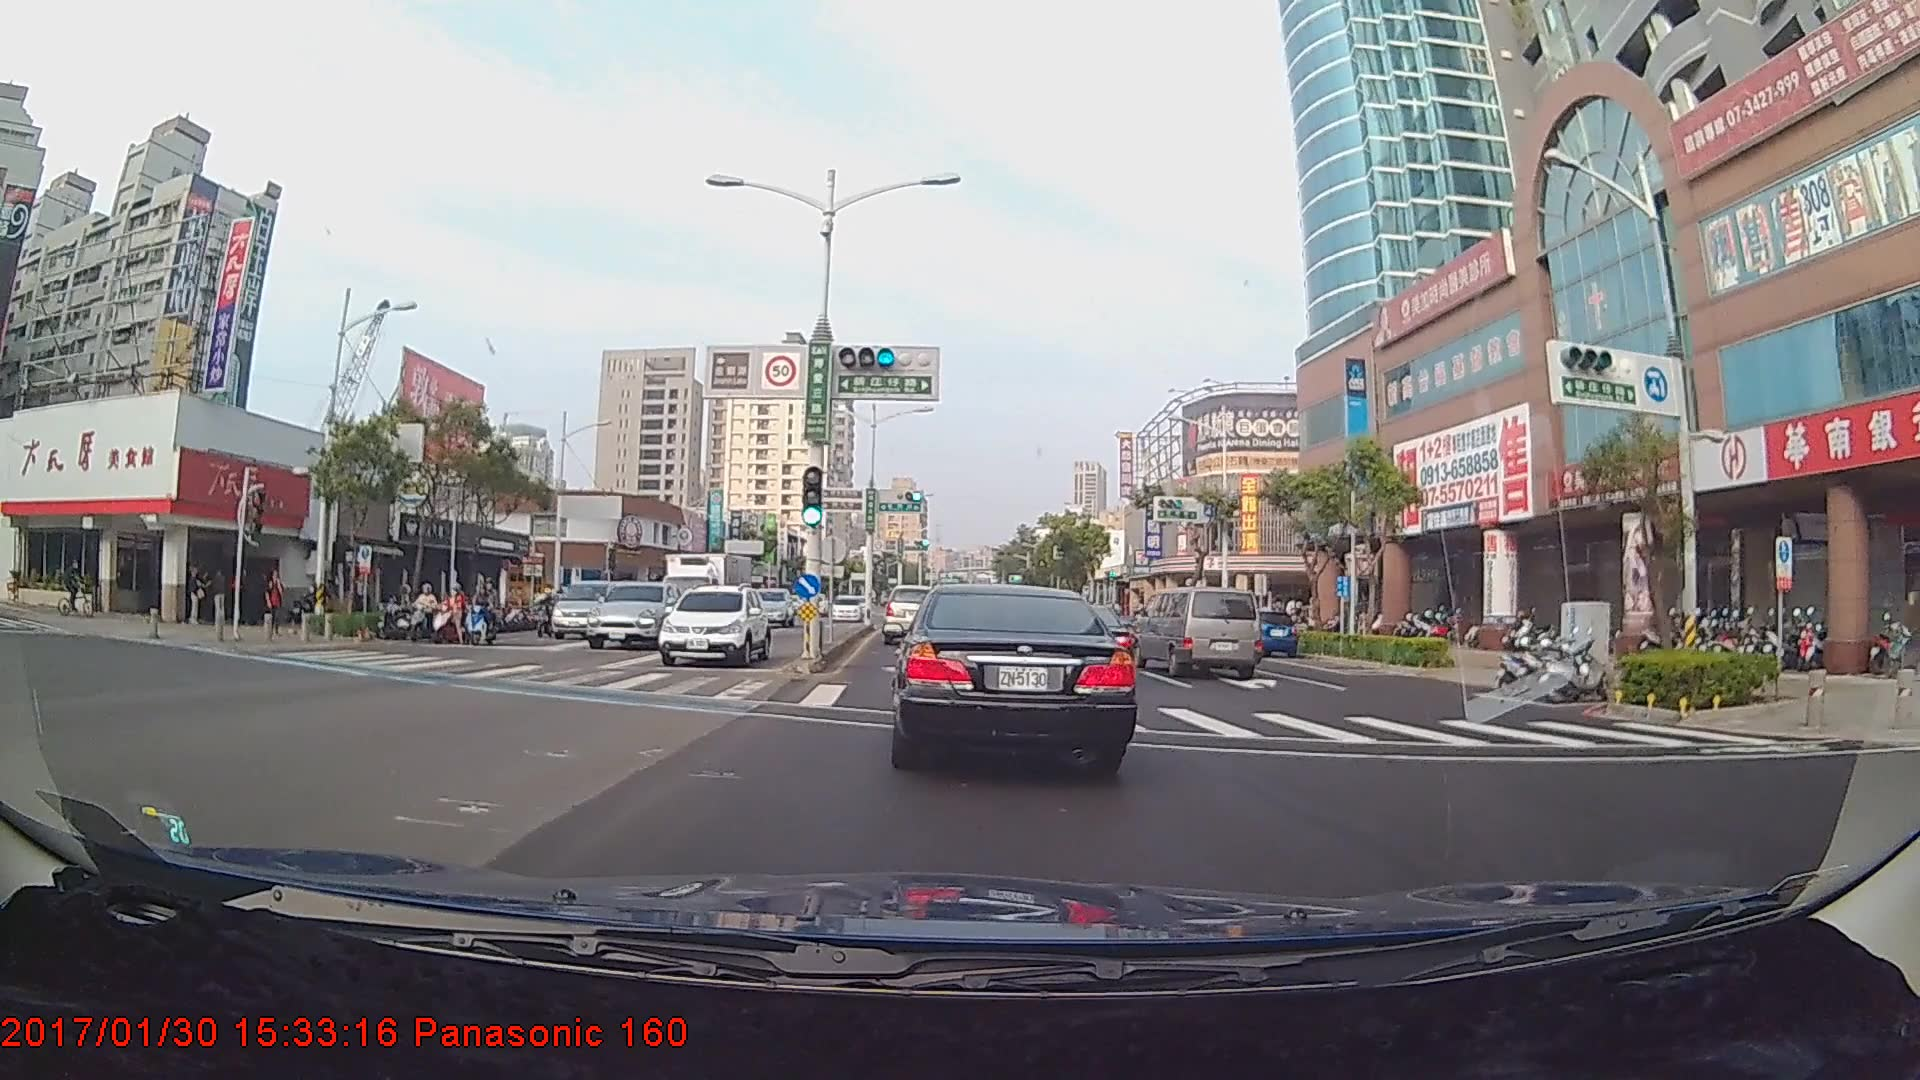pedestrian: (206, 566, 232, 627), (188, 562, 211, 629), (265, 570, 285, 635)
rider: (455, 583, 505, 644), (428, 580, 474, 644), (398, 582, 442, 646), (51, 558, 94, 616)
vehicle: (888, 578, 1133, 772), (1139, 585, 1265, 679), (656, 546, 758, 639), (660, 586, 771, 667), (585, 582, 673, 650), (550, 577, 619, 635), (881, 579, 940, 644), (1230, 604, 1302, 656), (749, 585, 791, 628), (829, 591, 858, 619)
